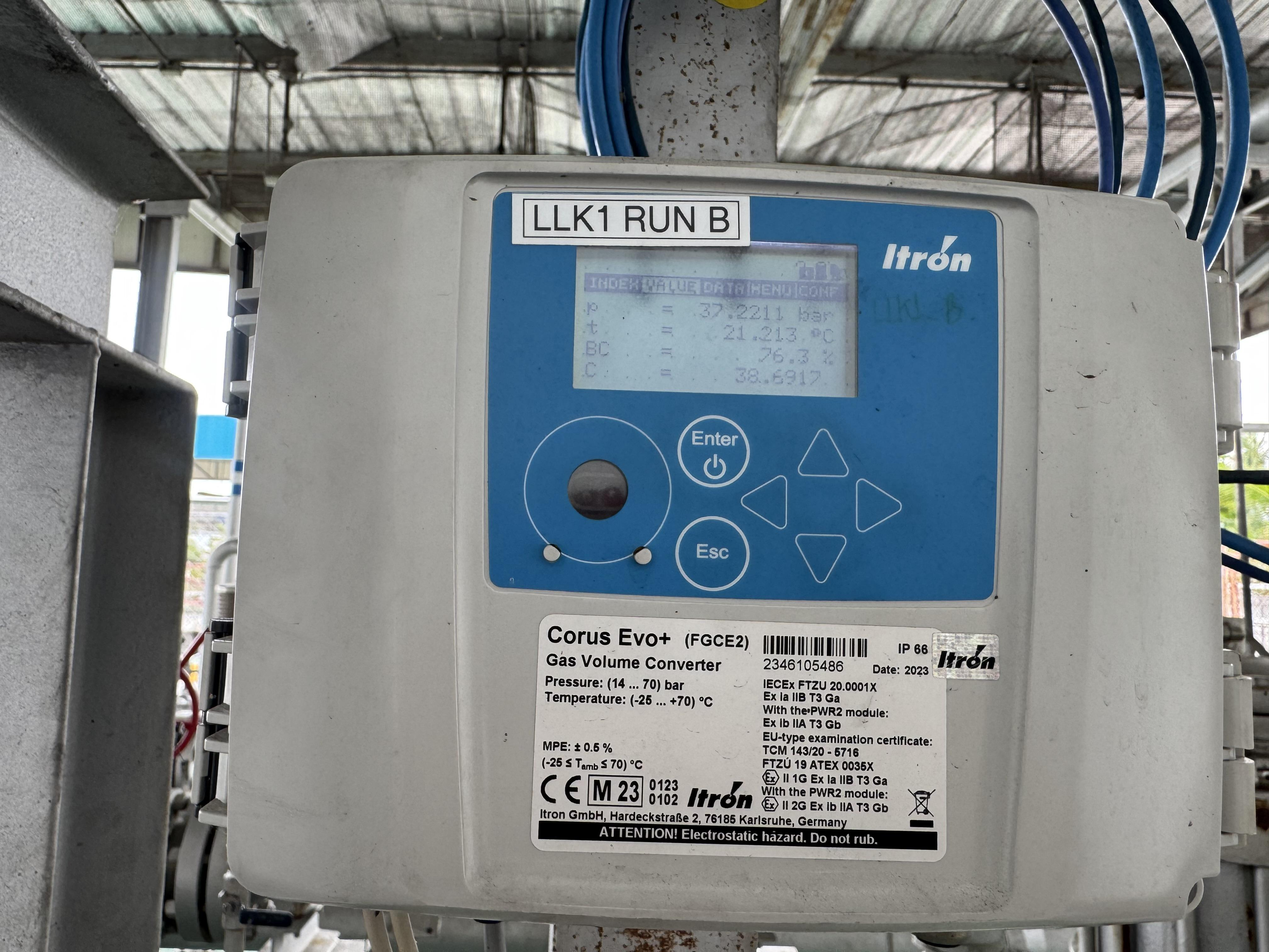digital_screen: (572, 236, 862, 397)
